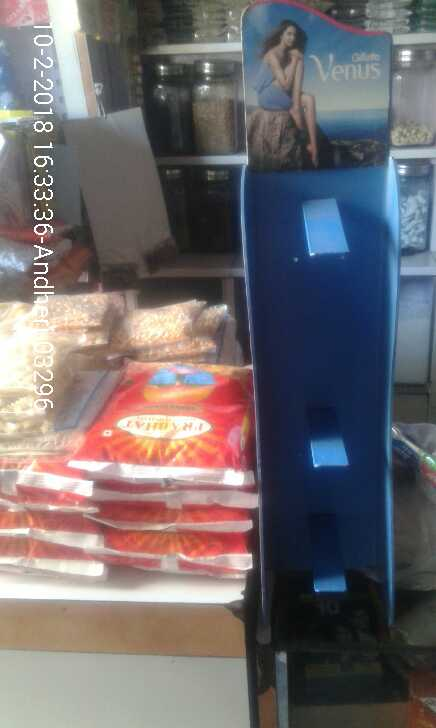reject: (245, 196, 373, 568)
